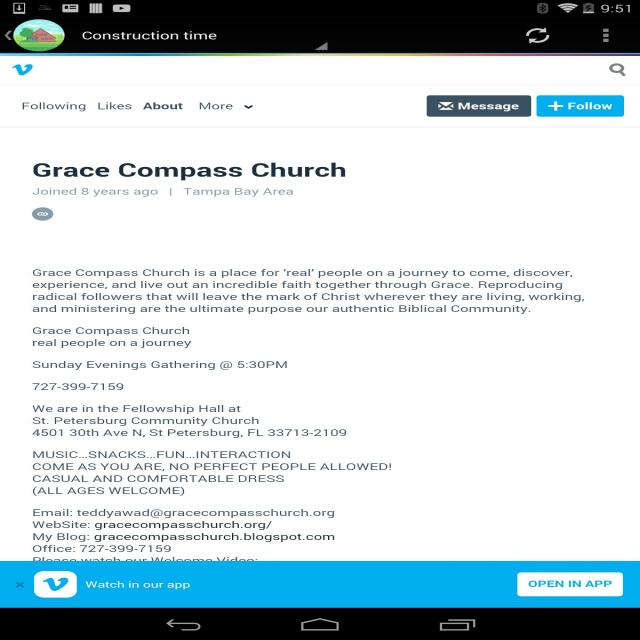button: (78, 17, 330, 52), (516, 572, 622, 597), (0, 19, 64, 56), (426, 95, 530, 116), (538, 94, 624, 118), (17, 98, 92, 114), (519, 18, 554, 48), (198, 98, 255, 114), (139, 98, 189, 114), (606, 57, 634, 84), (595, 21, 617, 48), (92, 99, 137, 112), (9, 578, 29, 592)
heading: (31, 160, 350, 181)
iframe: (1, 561, 640, 609)
image: (14, 18, 66, 52), (5, 56, 39, 82)
label: (30, 185, 164, 198), (181, 185, 300, 199)
text: (32, 266, 594, 314), (29, 448, 395, 496), (33, 508, 343, 552), (28, 402, 352, 440), (32, 324, 197, 351), (33, 359, 294, 374), (80, 25, 220, 44), (28, 380, 136, 393)
